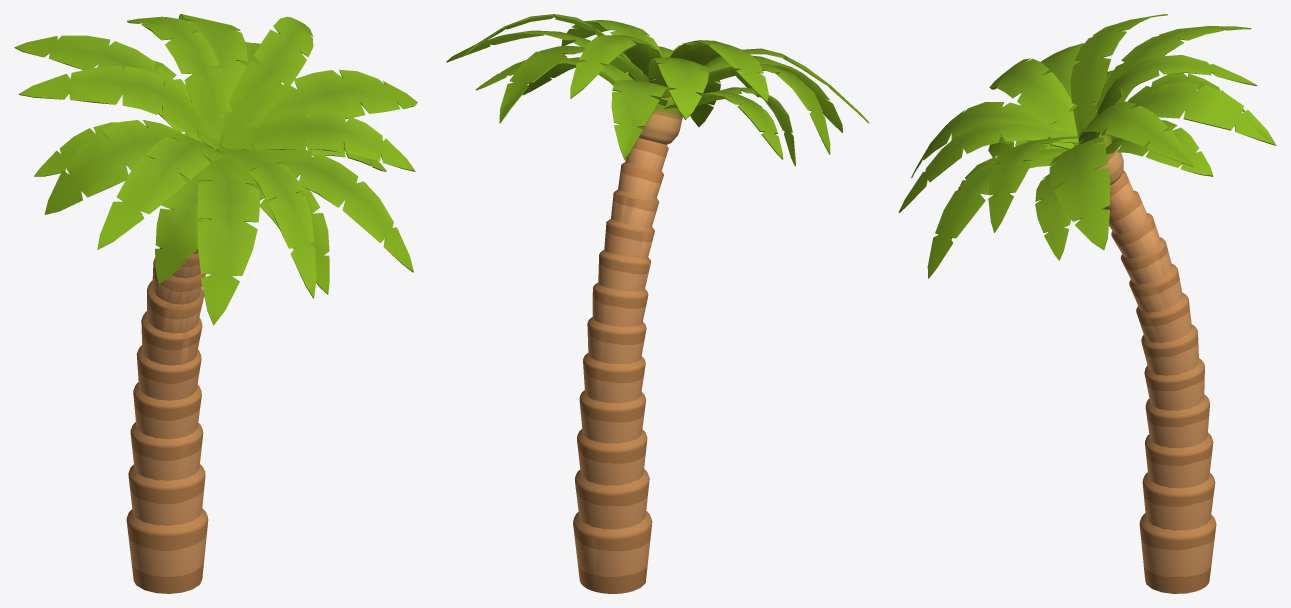
Rendered from Palm_02_LOD1.fbx.
The picture shows the model from 3 angles, left to right: view 1: azimuth 30°, elevation 25°; view 2: azimuth 150°, elevation 25°; view 3: azimuth 270°, elevation 25°; orthographic projection. The views are drawn at different scales.
Parts seen in each view (by area): view 1: Palm_02_LOD1_Mesh; view 2: Palm_02_LOD1_Mesh; view 3: Palm_02_LOD1_Mesh.
Part boxes in pixels (x1,y1,x2,y2): Palm_02_LOD1_Mesh: (14,14,417,593); Palm_02_LOD1_Mesh: (446,14,869,593); Palm_02_LOD1_Mesh: (898,14,1276,593).
Size of the model in its own units: 8.35 by 11.46 by 7.56.
